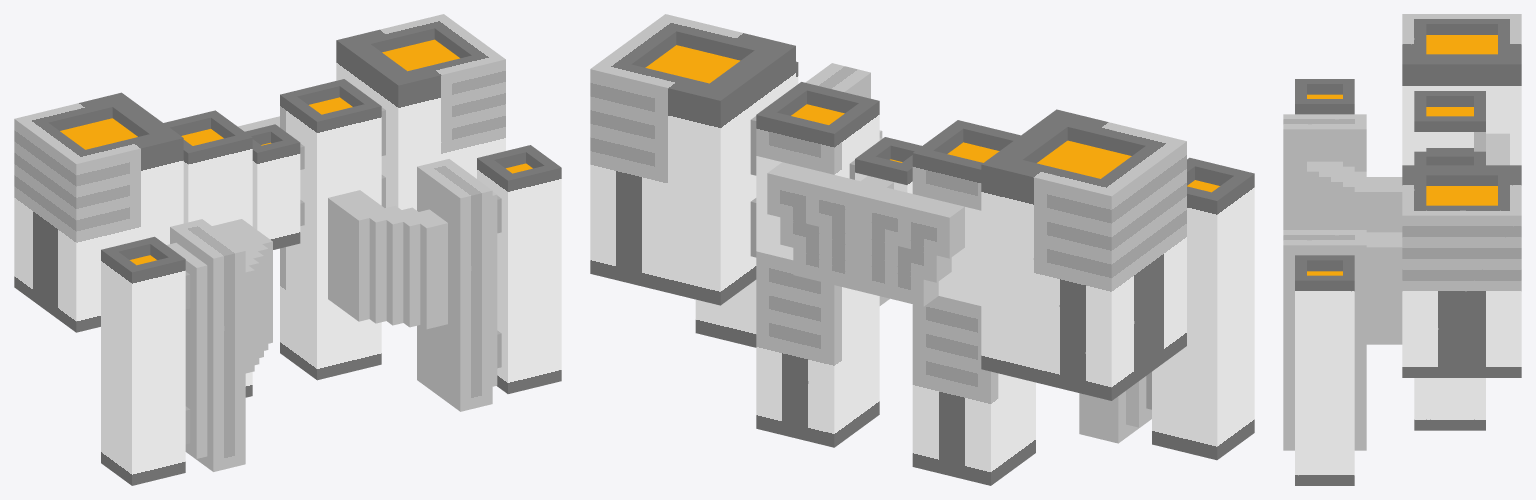
File: “喷气背包”.gltf
3 renders of one model, left to right at view 1: azimuth 30°, elevation 25°; view 2: azimuth 150°, elevation 25°; view 3: azimuth 270°, elevation 25°, orthographic. The views are drawn at different scales.
Visible parts, largest first — view 1: Object; view 2: Object; view 3: Object.
Part boxes in pixels (left/top/right/bottom): Object: left=14, top=14, right=561, bottom=485; Object: left=590, top=14, right=1254, bottom=485; Object: left=1283, top=14, right=1521, bottom=485.
Size of the model in its own units: 40 by 25 by 20.
1 material, 1 textured.
